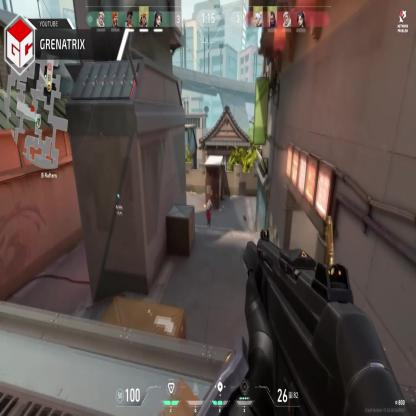enemy: (206, 198, 212, 227)
enemy_head: (208, 199, 212, 206)
